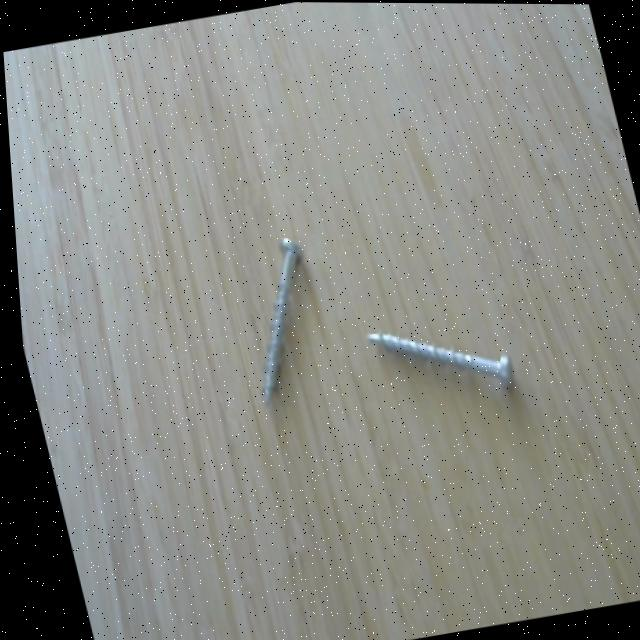Medium screw: (357, 320, 511, 400), (245, 228, 307, 413)
